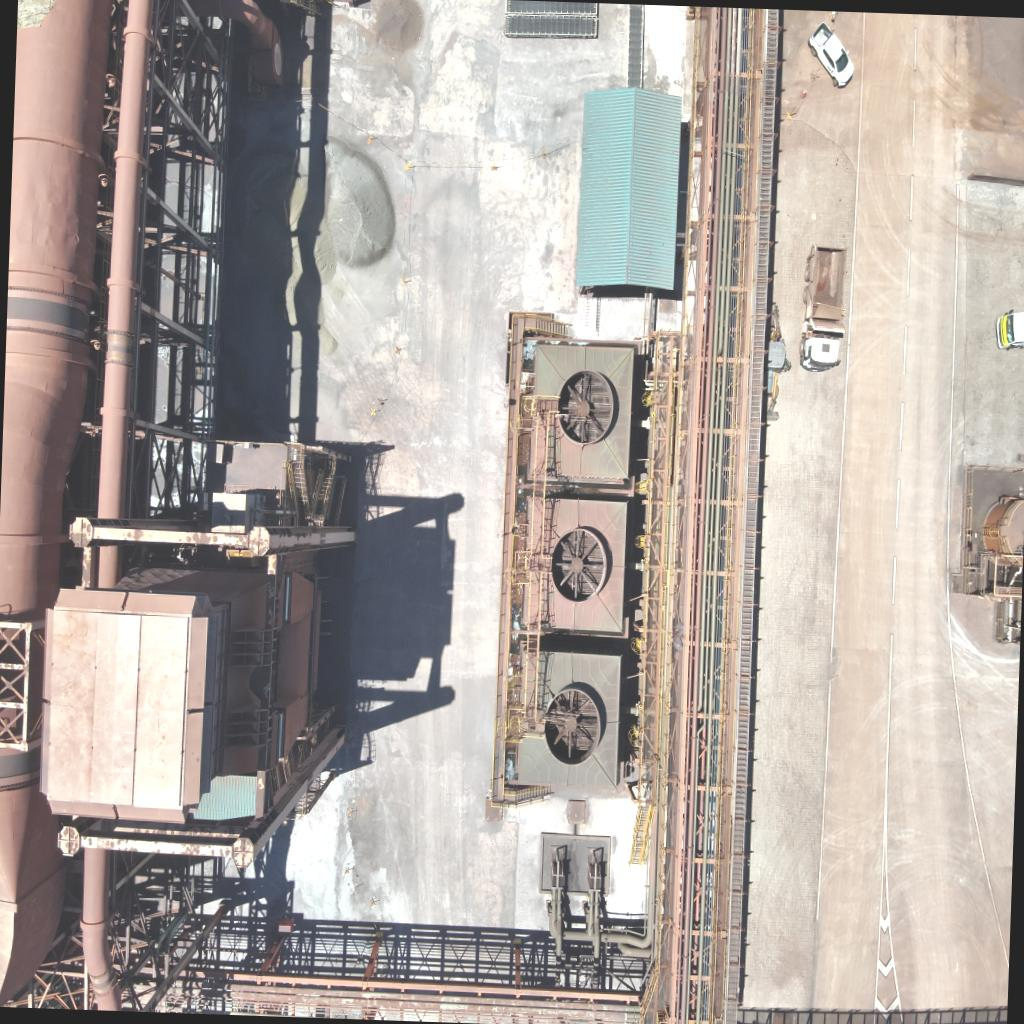Failures: (17, 0, 60, 30)
